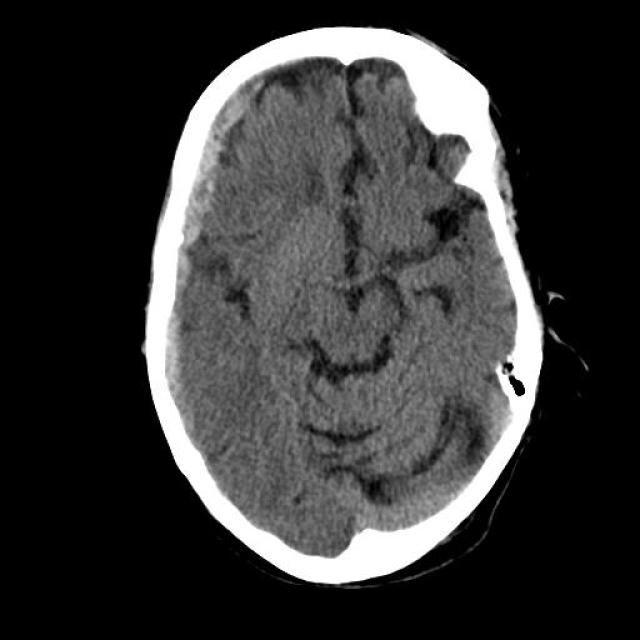Subdural: (132, 69, 270, 424)
